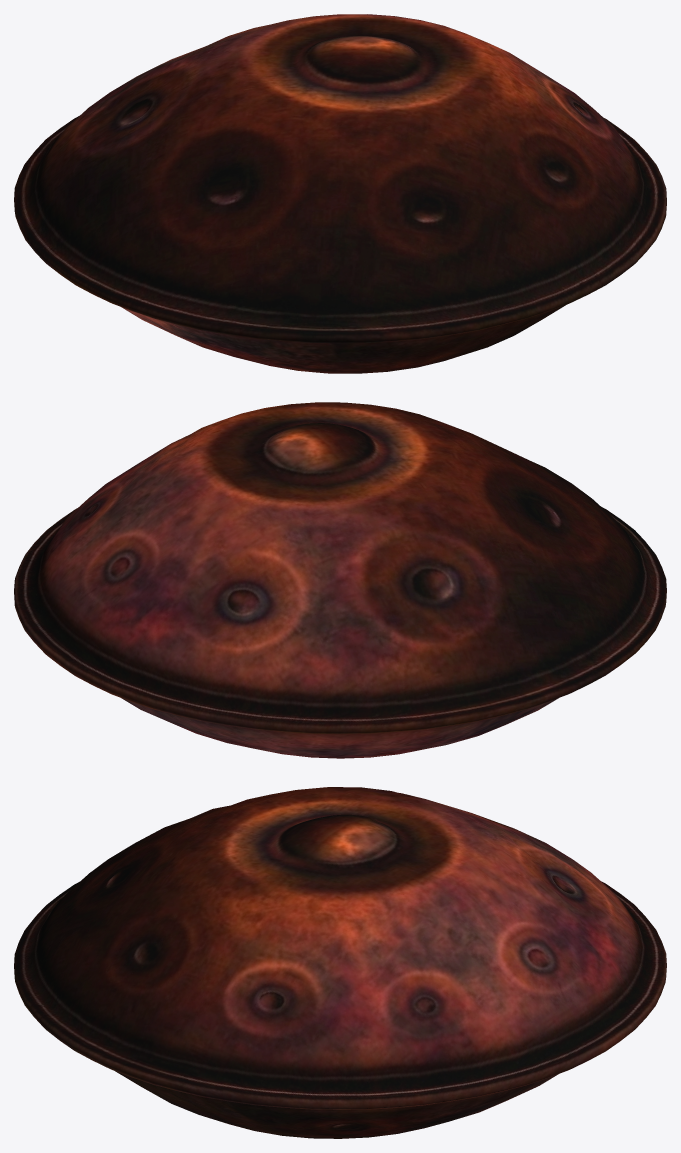
3 views of the same model, one above another, from view 1: azimuth 30°, elevation 25°; view 2: azimuth 150°, elevation 25°; view 3: azimuth 270°, elevation 25° (orthographic).
Parts seen in each view (by area): view 1: g; view 2: g; view 3: g.
Boxes of the visible parts, bbox=[...] form: g: bbox=[14, 14, 666, 373]; g: bbox=[14, 402, 666, 758]; g: bbox=[14, 787, 666, 1138].
Bounding box in the file's own units: 2 × 0.9154 × 2.
Materials: 1 (1 with a texture image).
